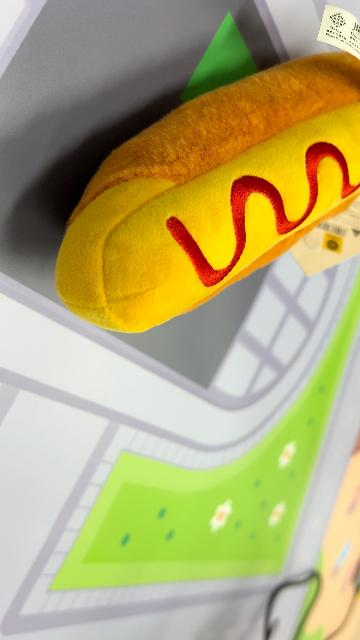hotdog: (53, 51, 358, 336)
